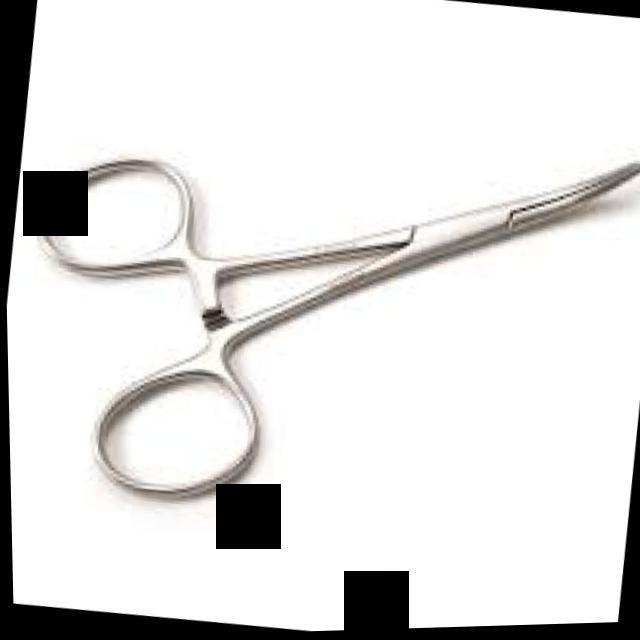Artery Forceps: (1, 51, 640, 571)
